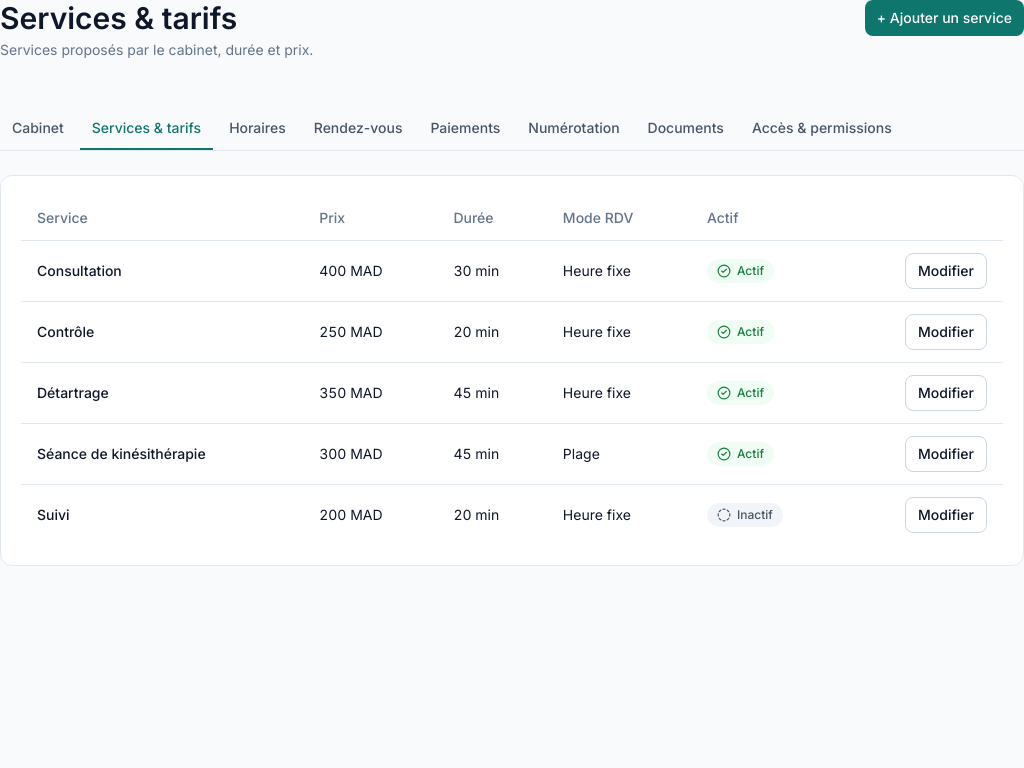
Scenario: ServicesPage › Modifier on one row pre-fills that row's own values, not another row's
The width and height of the screenshot is (1024, 768).
Click the button "Modifier" in the row of "Séance de kinésithérapie" at {"x": 946, "y": 454}, box [905,436,987,472]
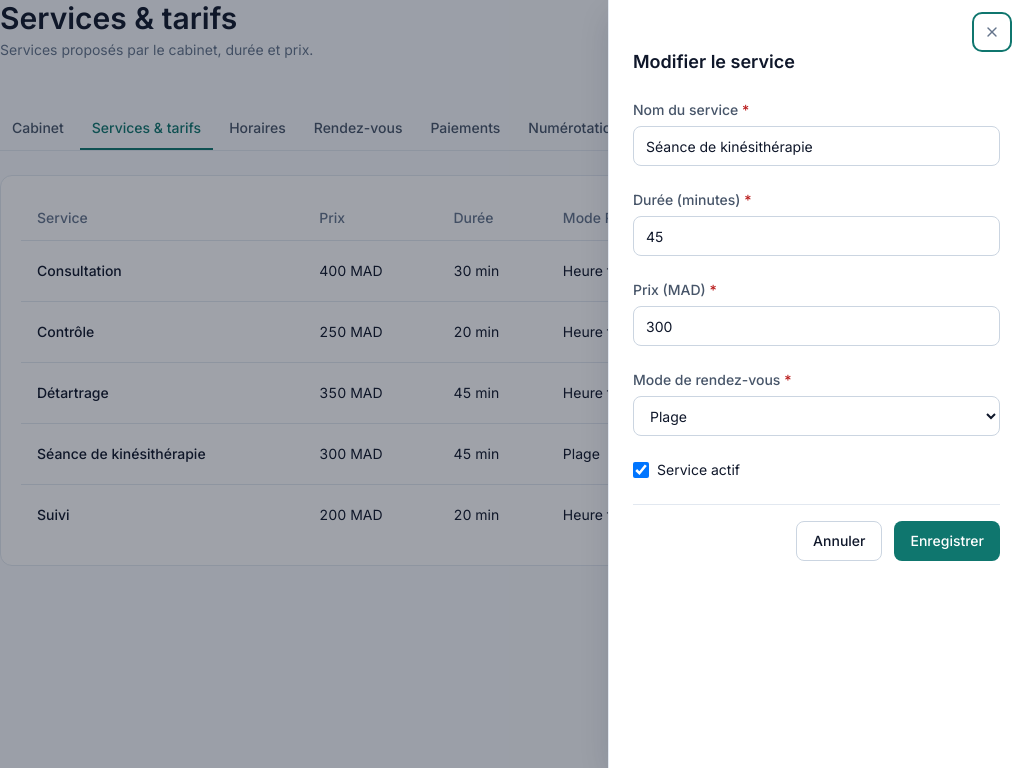
Now the field labelled "Nom du service *" holds "Séance de kinésithérapie", box [633,126,1000,166]
Now the number field labelled "Prix (MAD) *" holds "300", box [633,306,1000,346]
